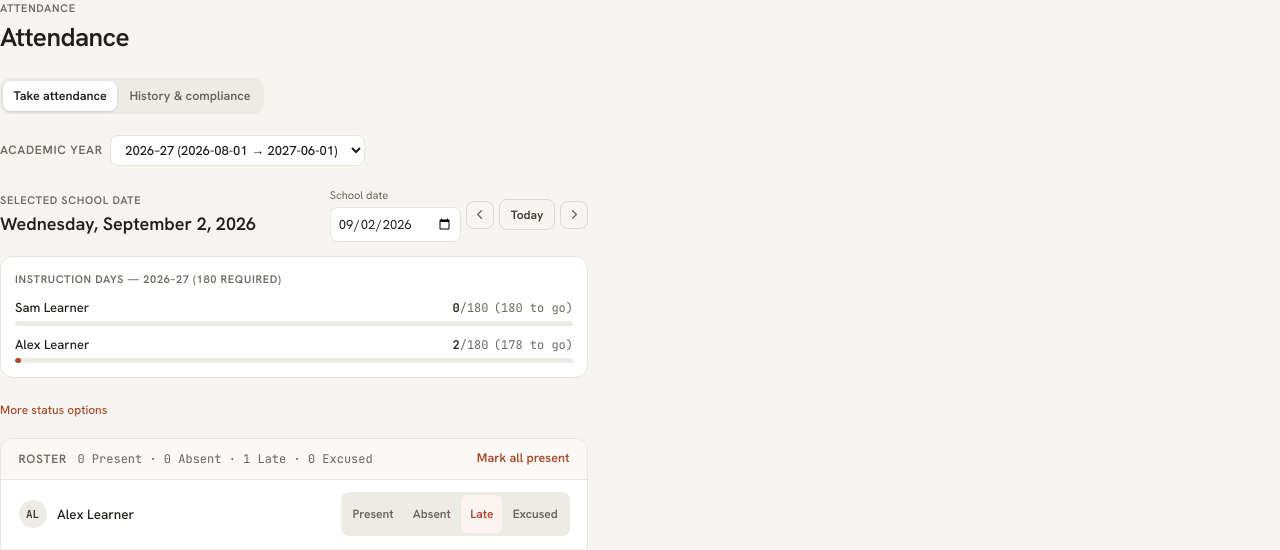
Scenario: attendance date and status workflow › filters history without shrinking annual instruction-day totals
The width and height of the screenshot is (1280, 550).
Expected: the button with aria-label "Mark Alex Learner Late" is shown, [461, 495, 502, 533]
Click the button "History & compliance" at (190, 96), box [119, 81, 261, 111]
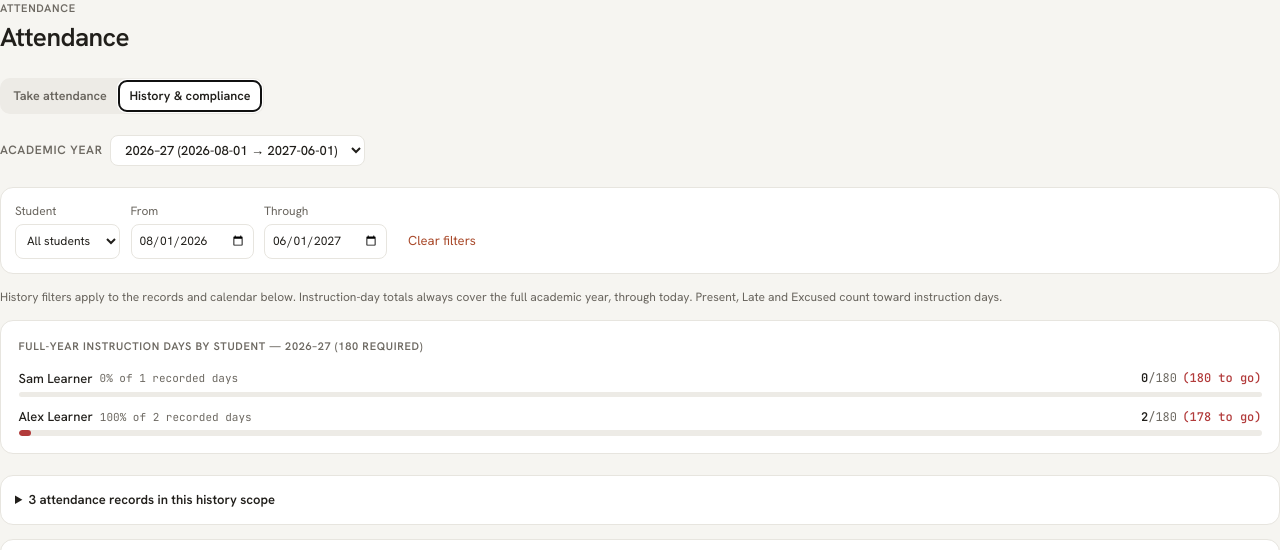
Select "Alex Learner" in the dropdown named "Attendance history student" at (68, 241), box [15, 224, 120, 258]
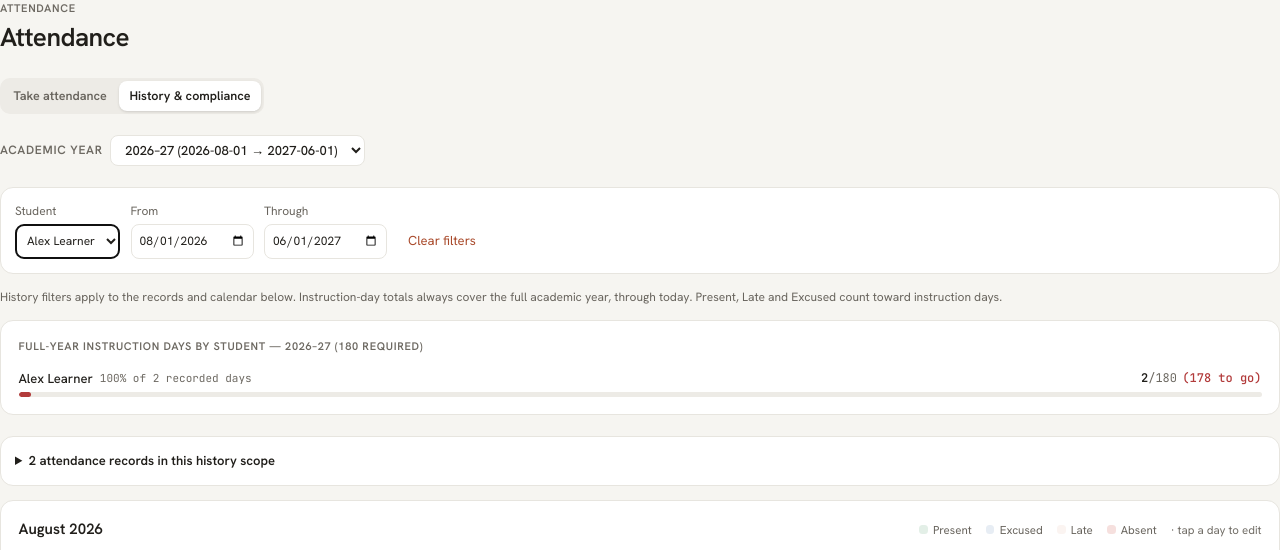
// Native date controls have no ordinary text-selection support.
Type "2026-09-02" into the date field named "Attendance history from" at (192, 241), box [130, 224, 254, 258]
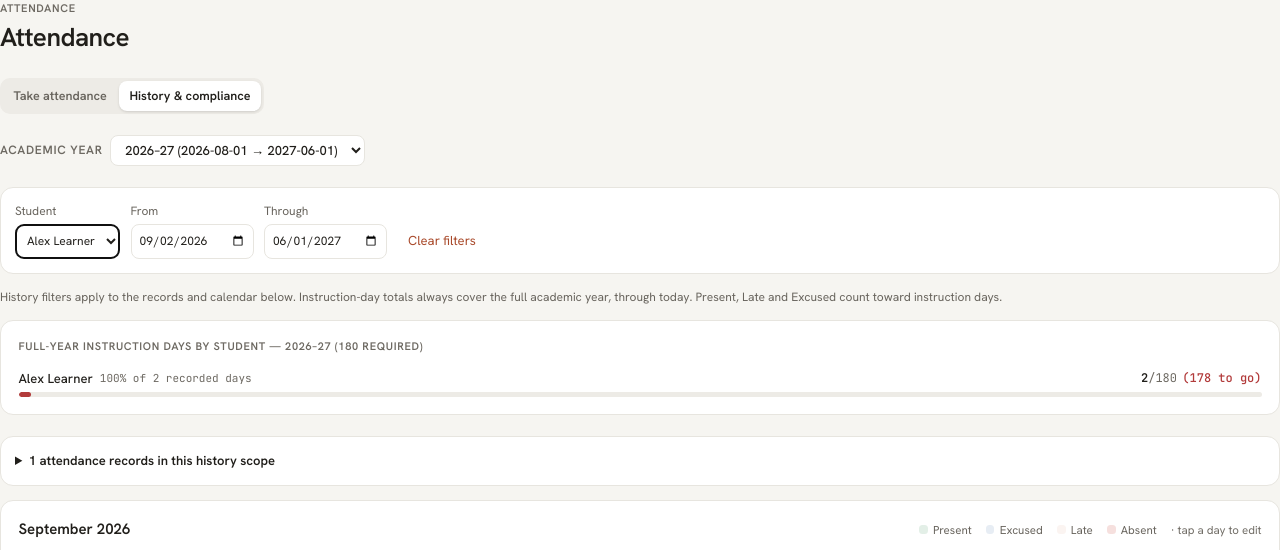
Type "2026-09-02" into the date field named "Attendance history through" at (326, 241), box [264, 224, 387, 258]
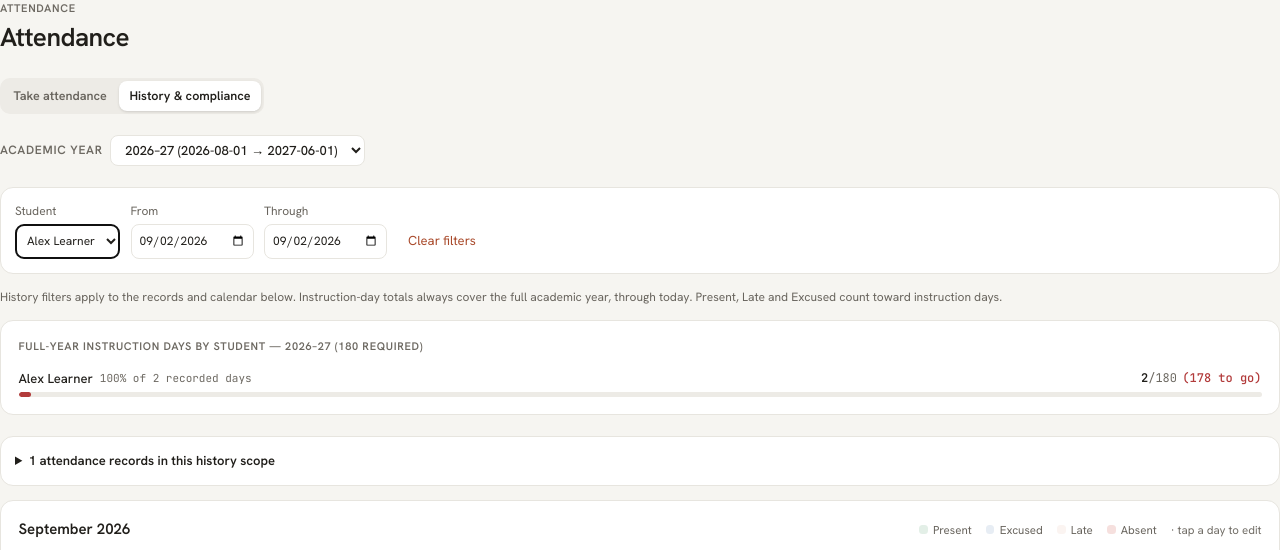
Click the heading "1 attendance records in this history scope" at (152, 461), box [29, 452, 275, 469]
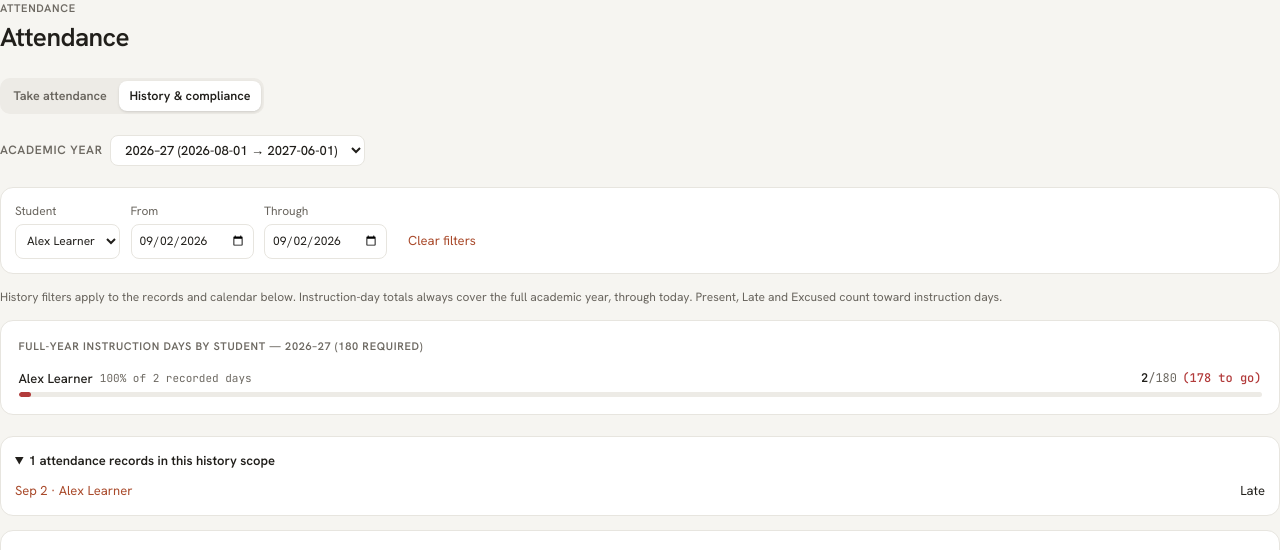
Expected: the text "Sam" is not shown
Expected: the text "Late" is shown, [1240, 481, 1265, 501]
Type "2026-09-03" into the date field named "Attendance history from" at (192, 241), box [130, 224, 254, 258]
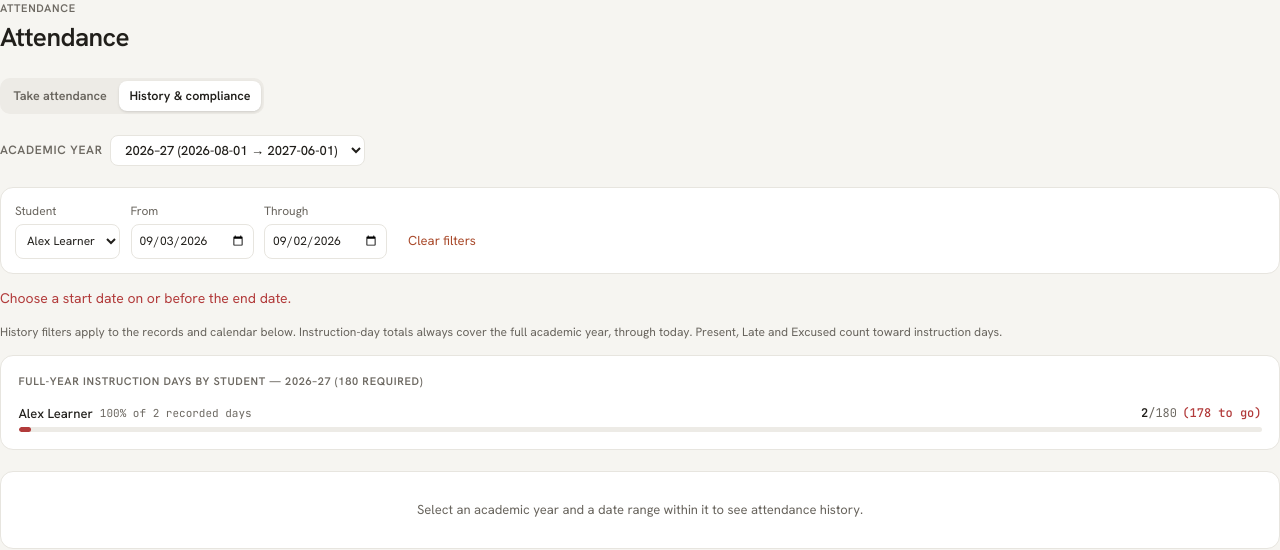
Expected: the message shows "start date on or before", [0, 288, 291, 306]
